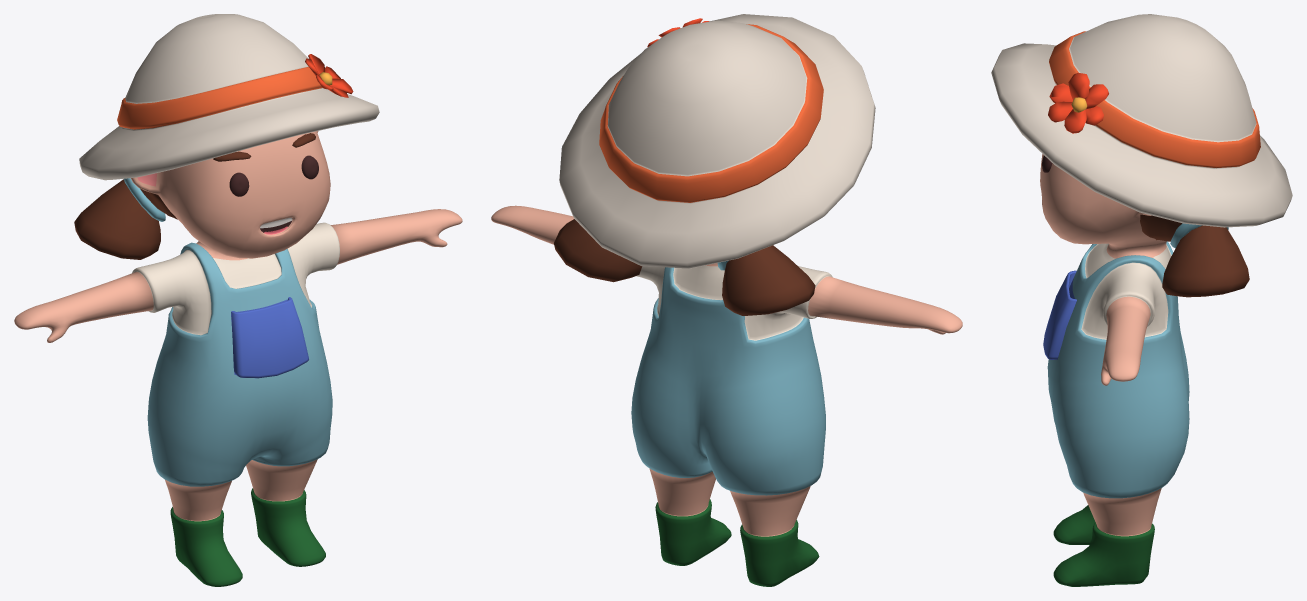
The model's file is young_female_farmer_02.fbx.
3 views of the same model, side by side, from view 1: azimuth 30°, elevation 25°; view 2: azimuth 150°, elevation 25°; view 3: azimuth 270°, elevation 25° (orthographic). The views are drawn at different scales.
Visible parts, largest first — view 1: young_female_farmer_02; view 2: young_female_farmer_02; view 3: young_female_farmer_02.
Part boxes in pixels (x1,y1,x2,y2): young_female_farmer_02: (14,14,462,586); young_female_farmer_02: (491,14,962,586); young_female_farmer_02: (991,14,1292,586).
Bounding box in the file's own units: 4.94 × 5.55 × 2.83.
